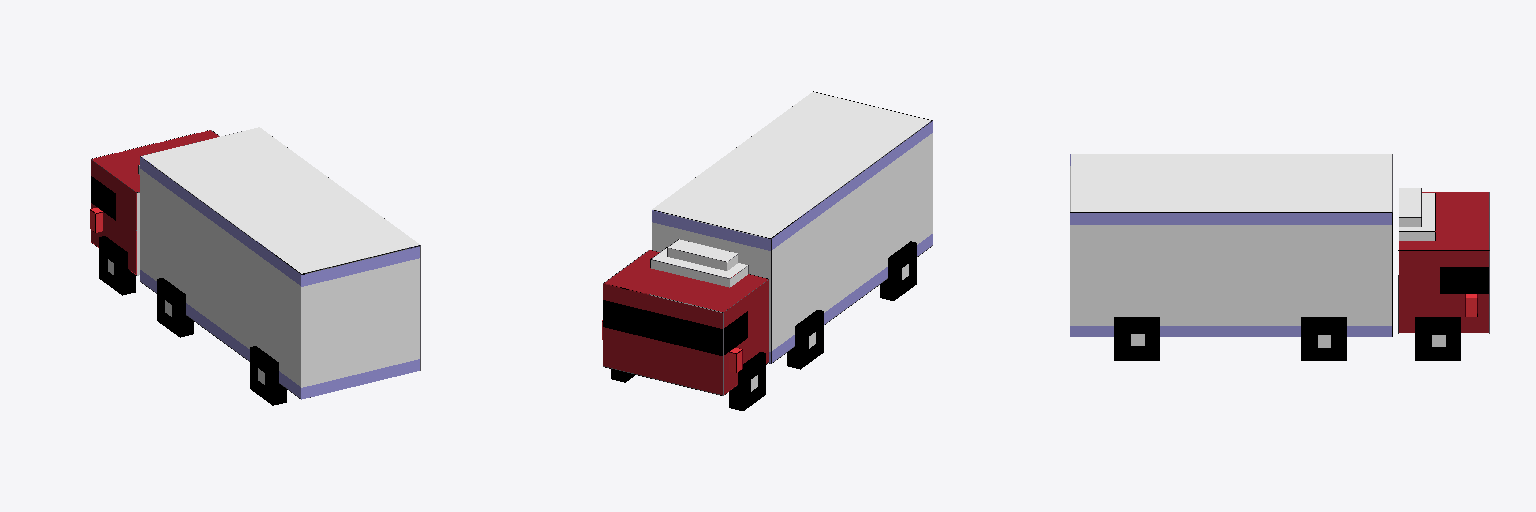
3 views of the same model, side by side, from view 1: azimuth 30°, elevation 25°; view 2: azimuth 150°, elevation 25°; view 3: azimuth 270°, elevation 25° (orthographic).
Parts seen in each view (by area): view 1: Back_Cube.005; view 2: Back_Cube.005; view 3: Back_Cube.005.
Part boxes in pixels (x1,y1,x2,y2): Back_Cube.005: (90, 127, 420, 405); Back_Cube.005: (602, 91, 932, 410); Back_Cube.005: (1070, 154, 1489, 360).
Size of the model in its own units: 3.39 by 3.5 by 9.12.
Materials: 1 (1 with a texture image).